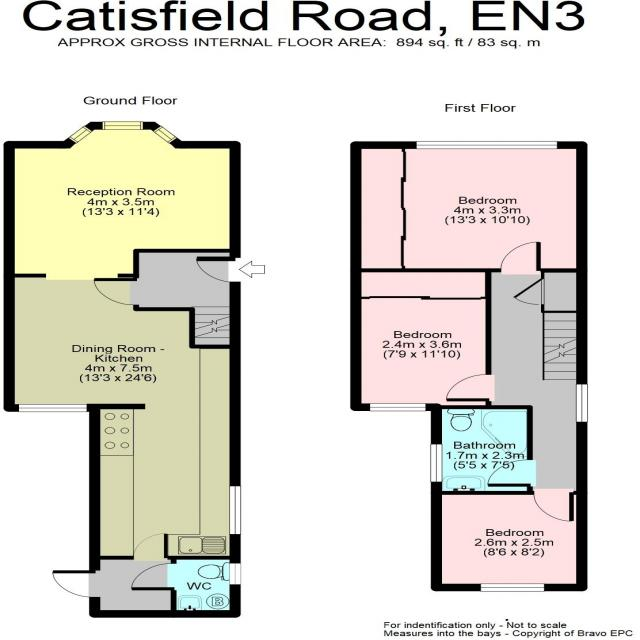DOOR: (50, 568, 101, 599), (92, 276, 139, 306), (193, 255, 241, 284), (499, 241, 542, 273), (486, 458, 533, 487), (445, 373, 492, 402), (130, 562, 176, 591), (532, 491, 575, 522), (132, 533, 169, 560)
ROOM: (3, 121, 242, 560), (350, 141, 588, 272), (350, 268, 493, 412), (430, 491, 588, 592)
WINDOW: (415, 141, 559, 150), (17, 403, 88, 413), (228, 485, 242, 535), (479, 583, 546, 592), (429, 443, 443, 483), (575, 383, 589, 423), (66, 125, 94, 144), (369, 403, 427, 412), (152, 125, 179, 144), (101, 121, 144, 130), (229, 563, 242, 585)
